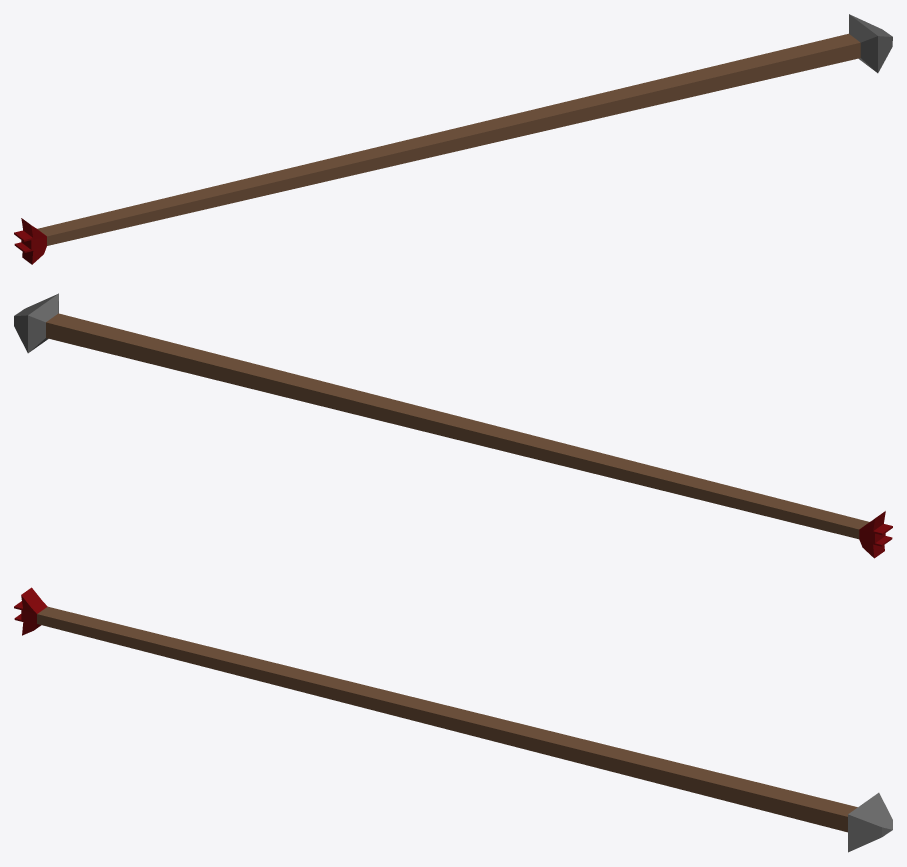
The model's file is arrow.fbx.
3 views of the same model, one above another, from view 1: azimuth 30°, elevation 25°; view 2: azimuth 150°, elevation 25°; view 3: azimuth 330°, elevation 25° (orthographic).
Parts seen in each view (by area): view 1: Cube; view 2: Cube; view 3: Cube.
Boxes of the visible parts, x1,y1,x2,y2 form: Cube: [14, 14, 892, 264]; Cube: [14, 293, 892, 558]; Cube: [14, 587, 892, 852].
Size of the model in its own units: 1185 by 52.16 by 70.56.
